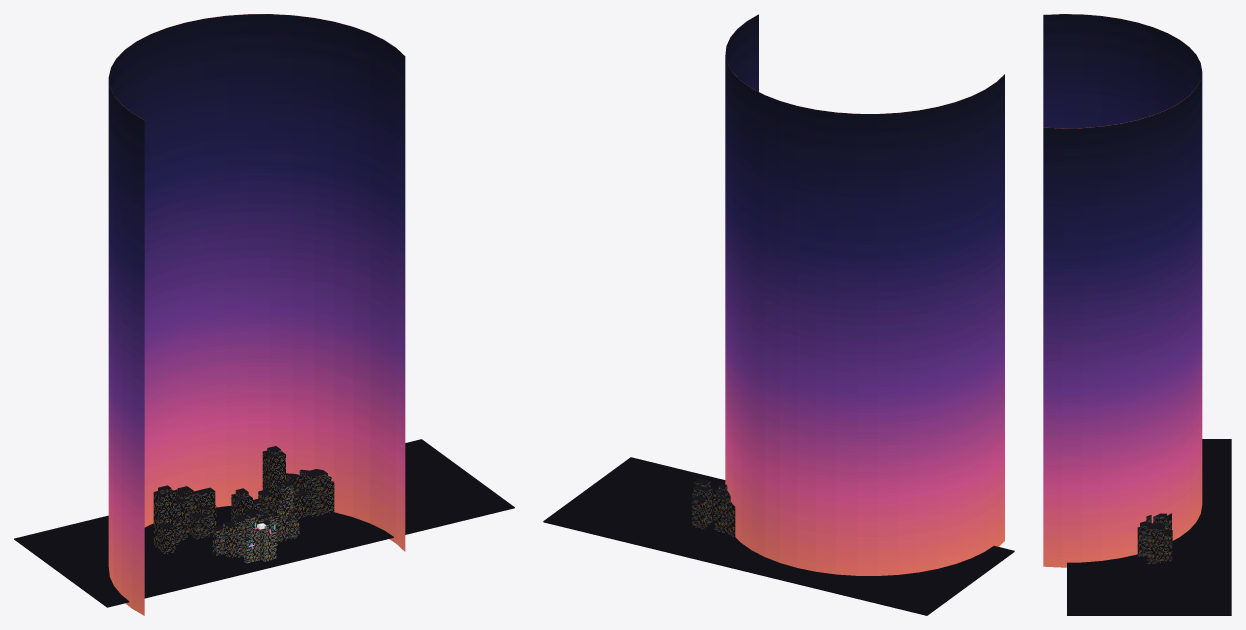
File: crt_vhs_scene.glb
3 views of the same model, side by side, from view 1: azimuth 30°, elevation 25°; view 2: azimuth 150°, elevation 25°; view 3: azimuth 270°, elevation 25° (orthographic). The views are drawn at different scales.
Parts seen in each view (by area): view 1: City_Sky, City_Ground, City_Layer_Far, City_Layer_Mid, City_Layer_Near; view 2: City_Sky, City_Ground, City_Layer_Far; view 3: City_Sky, City_Ground, City_Layer_Far.
Boxes of the visible parts, box(x1,y1,x2,y2) form: City_Sky: box(108, 14, 405, 615); City_Ground: box(14, 439, 514, 607); City_Layer_Far: box(153, 446, 334, 554); City_Layer_Mid: box(212, 481, 299, 558); City_Layer_Near: box(244, 515, 276, 563); City_Sky: box(725, 14, 1004, 575); City_Ground: box(543, 457, 1014, 615); City_Layer_Far: box(691, 478, 735, 536); City_Sky: box(1043, 14, 1202, 567); City_Ground: box(1067, 439, 1231, 615); City_Layer_Far: box(1137, 513, 1172, 563).
Size of the model in its own units: 400 by 465 by 181.
Materials: 34 (19 with a texture image).
